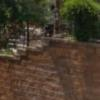stairs: (0, 32, 78, 64)
